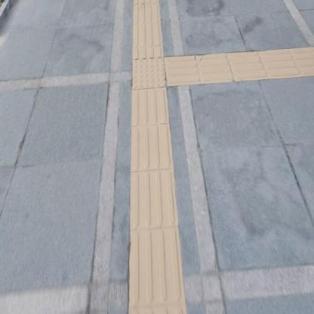Podoctatil: (126, 92, 190, 313), (168, 43, 313, 90), (119, 35, 184, 111), (129, 0, 165, 54)
